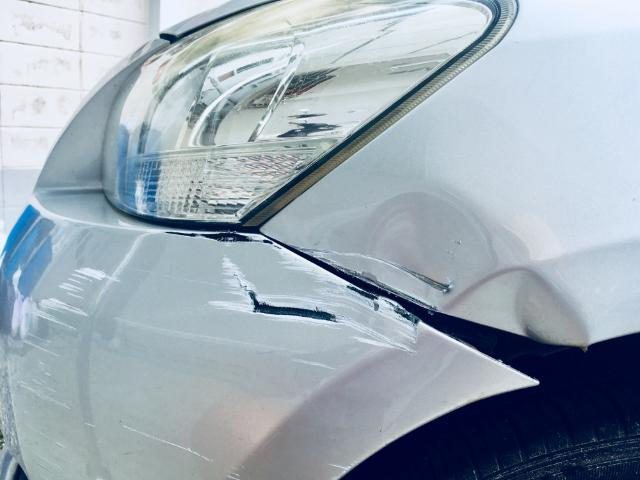dent: (293, 188, 593, 346)
dislocated part: (252, 230, 560, 387)
scratch: (158, 230, 421, 358), (14, 260, 121, 480), (114, 423, 218, 465)
